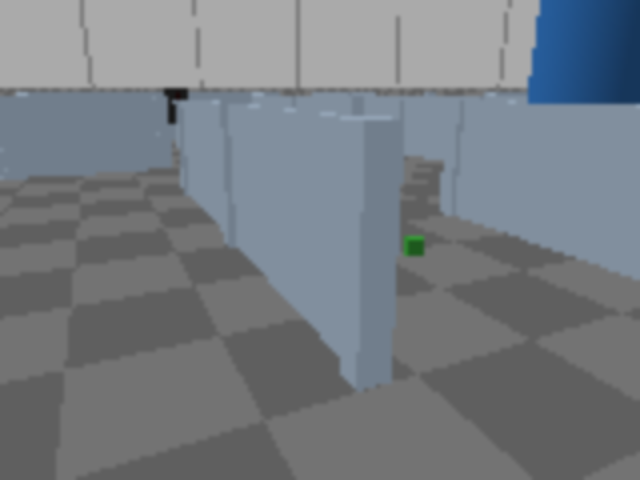puck: (403, 235, 424, 258)
